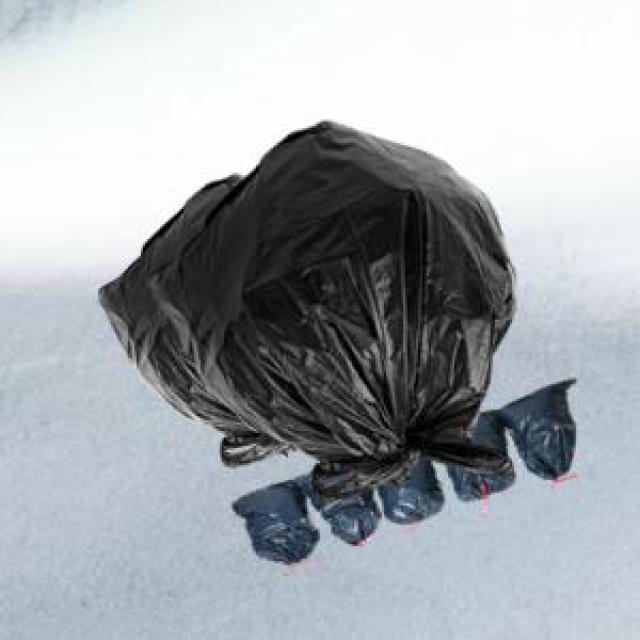garbage_bag: (94, 115, 578, 503)
